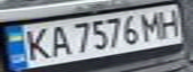5: (90, 16, 112, 51)
6: (121, 12, 145, 45)
7: (69, 19, 93, 54), (106, 15, 124, 48)
A: (45, 23, 72, 57)
H: (154, 7, 184, 38)
K: (18, 25, 54, 62)
M: (136, 8, 169, 42)
